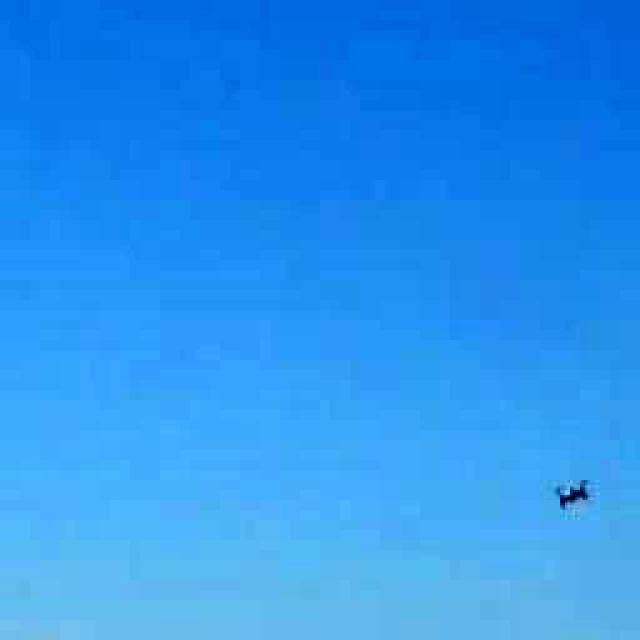bird: (526, 460, 611, 515)
